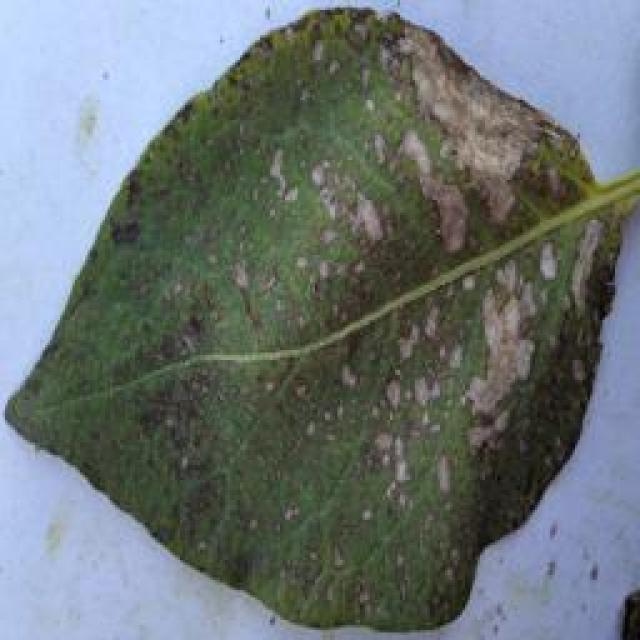Potato_Early_Blight: (2, 15, 630, 638)
